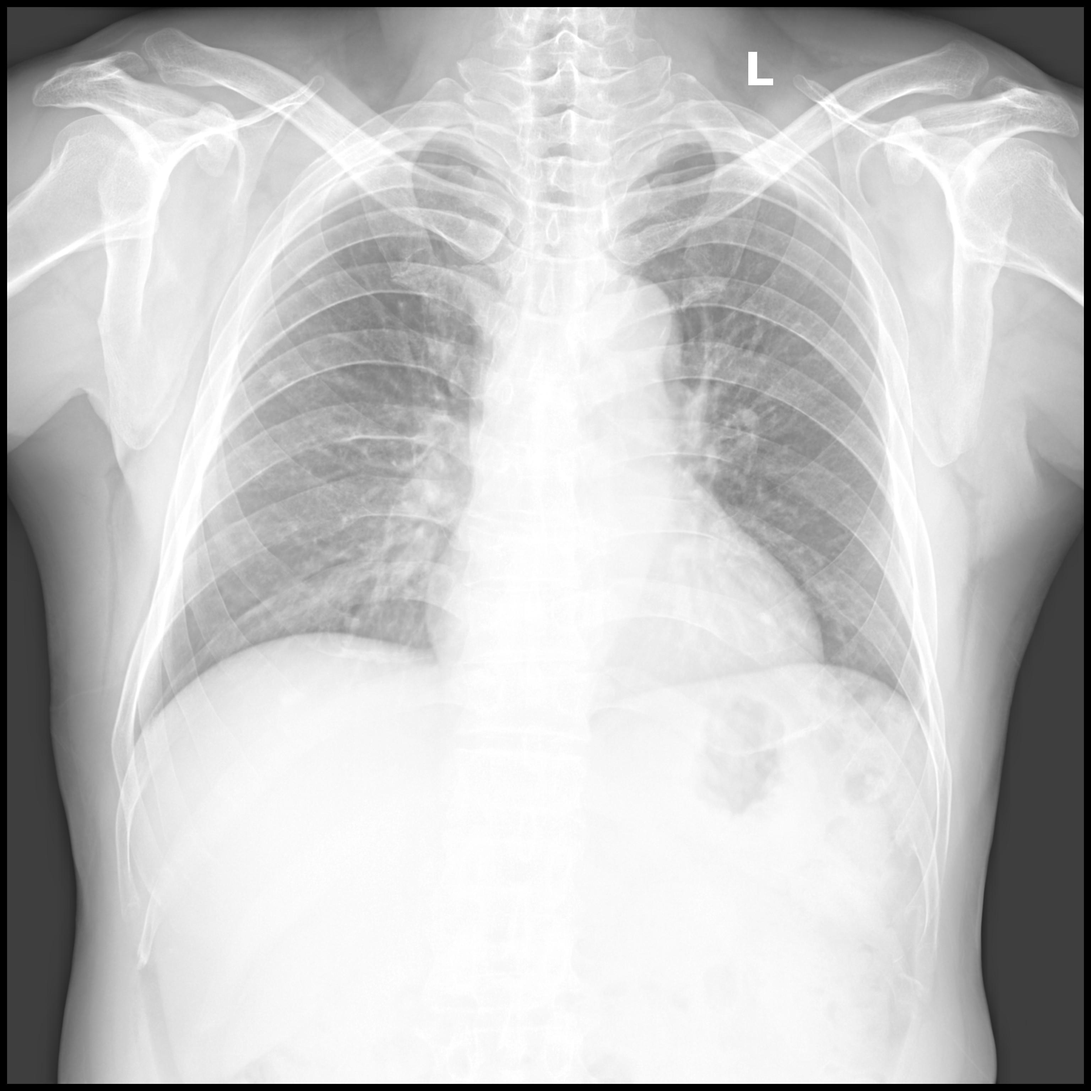Pulmonary fibrosis: (265, 367, 289, 389)
